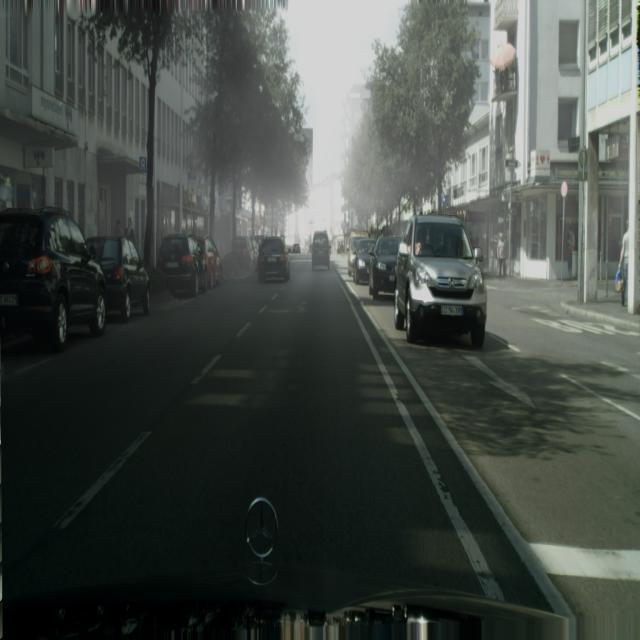bus: (615, 218, 630, 308), (497, 232, 506, 279), (126, 216, 136, 242)
person: (0, 206, 107, 350), (393, 214, 488, 348), (86, 236, 151, 321), (156, 234, 207, 298), (368, 236, 404, 299), (257, 236, 290, 282), (202, 236, 222, 288), (225, 236, 252, 274), (353, 238, 376, 282), (348, 236, 366, 276), (312, 231, 330, 271)
